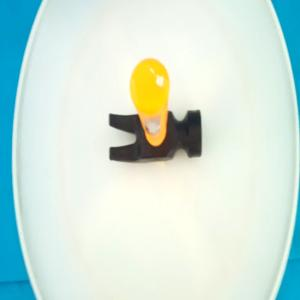martelo: (108, 55, 202, 164)
